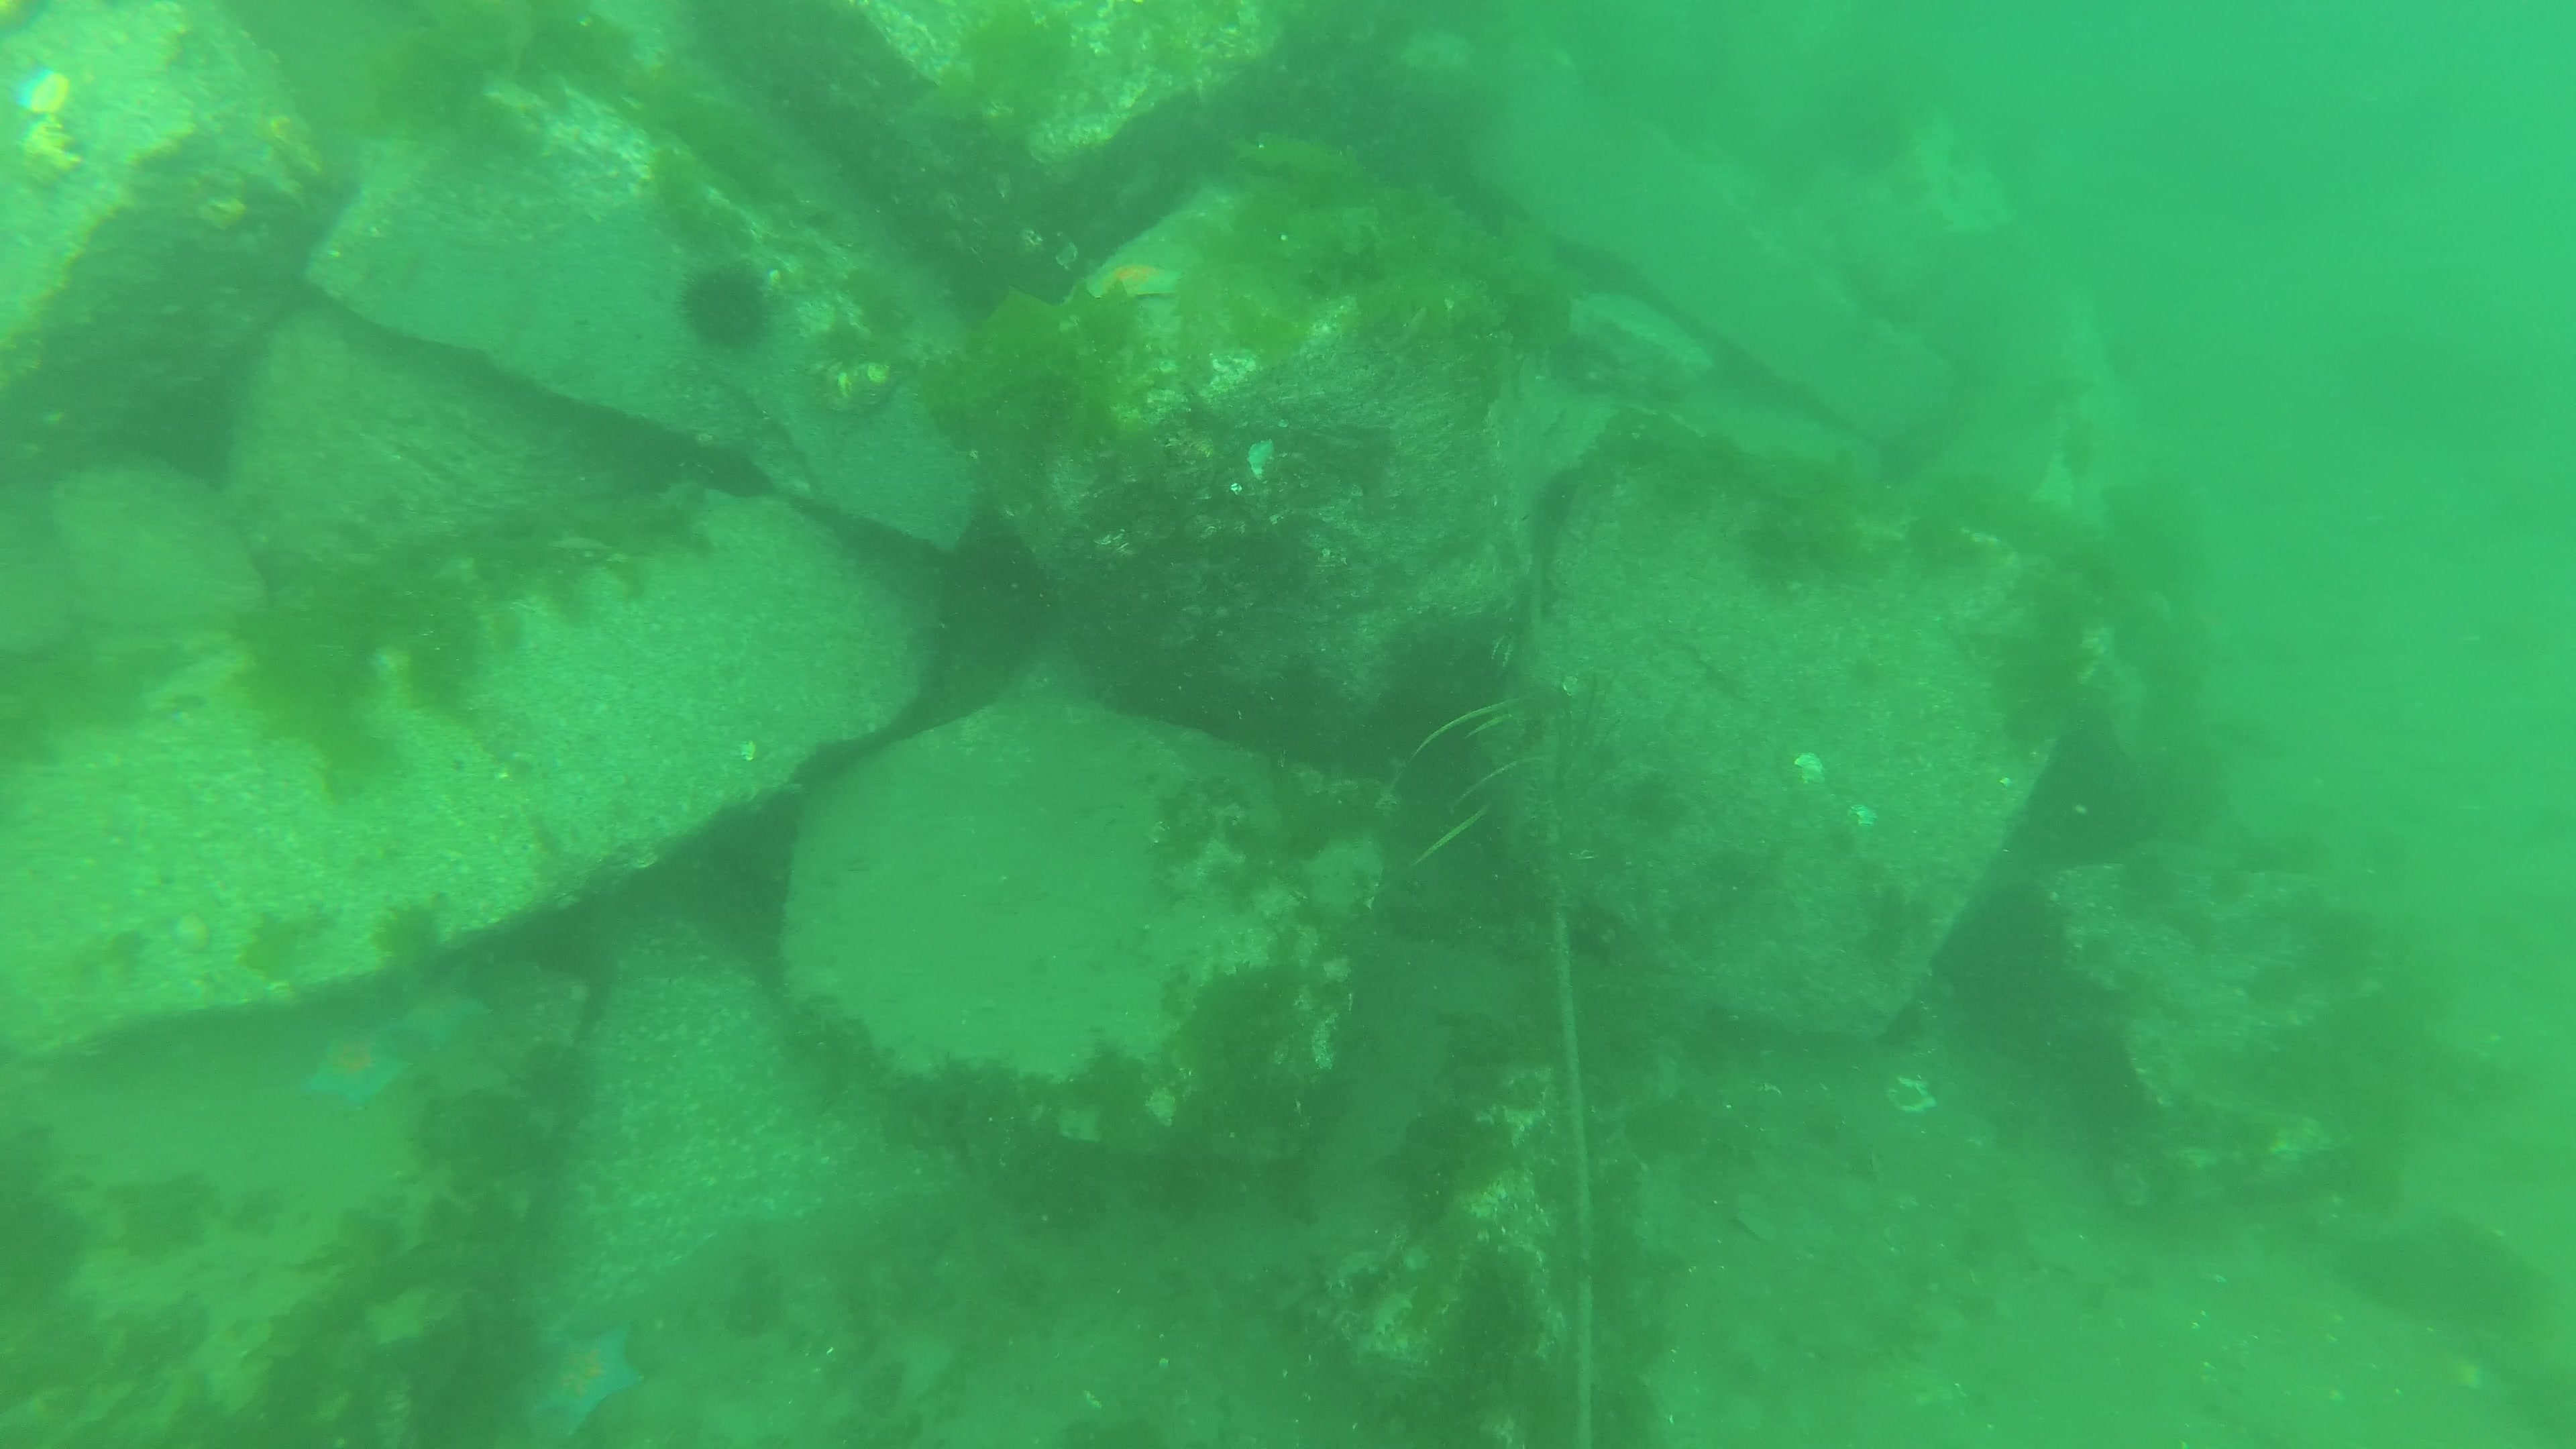echinus: (672, 258, 775, 352), (1557, 327, 1619, 396), (1536, 465, 1585, 524), (713, 456, 775, 497), (1879, 1000, 1920, 1046)
holothurian: (655, 474, 702, 513)
scallop: (527, 1316, 651, 1438), (386, 955, 495, 1060), (301, 1026, 414, 1108)
starfish: (1081, 262, 1185, 299)
